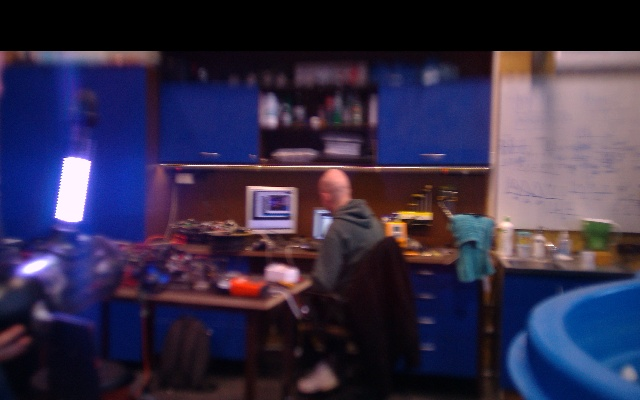white: (54, 157, 91, 222)
